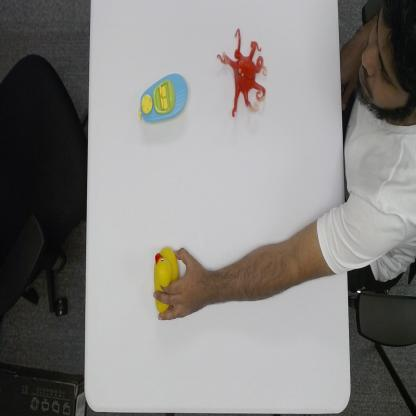Arm: (215, 195, 354, 321)
Boat: (138, 71, 188, 126)
Duck: (153, 244, 178, 314)
Hand: (153, 246, 212, 322)
Octopus: (216, 27, 268, 120)
